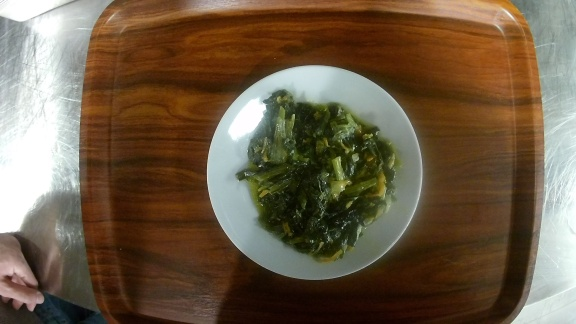ispanak: (207, 62, 422, 282)
